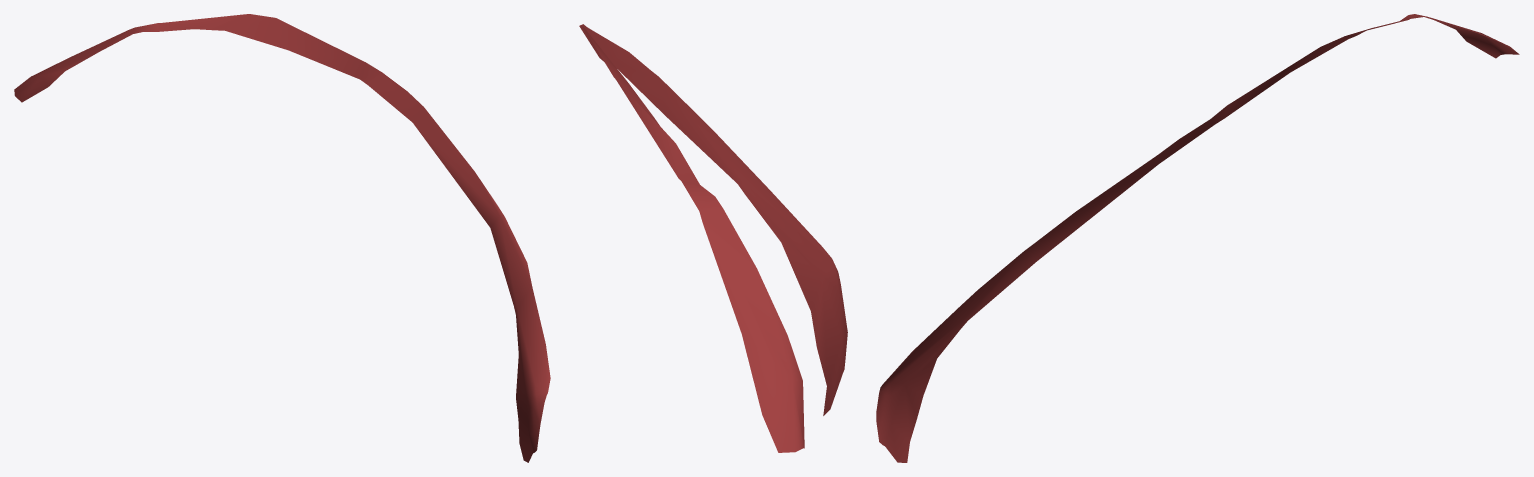
Rendered from transversus-abdominis-muscle-ol.glb.
3 views of the same model, side by side, from view 1: azimuth 30°, elevation 25°; view 2: azimuth 150°, elevation 25°; view 3: azimuth 270°, elevation 25° (orthographic). The views are drawn at different scales.
Parts seen in each view (by area): view 1: Transversus abdominis muscle.ol; view 2: Transversus abdominis muscle.ol; view 3: Transversus abdominis muscle.ol.
Boxes of the visible parts, box(x1,y1,x2,y2) form: Transversus abdominis muscle.ol: box(14, 14, 550, 462); Transversus abdominis muscle.ol: box(579, 24, 847, 452); Transversus abdominis muscle.ol: box(876, 14, 1519, 462).
Size of the model in its own units: 0.0664 by 0.0739 by 0.1139.
